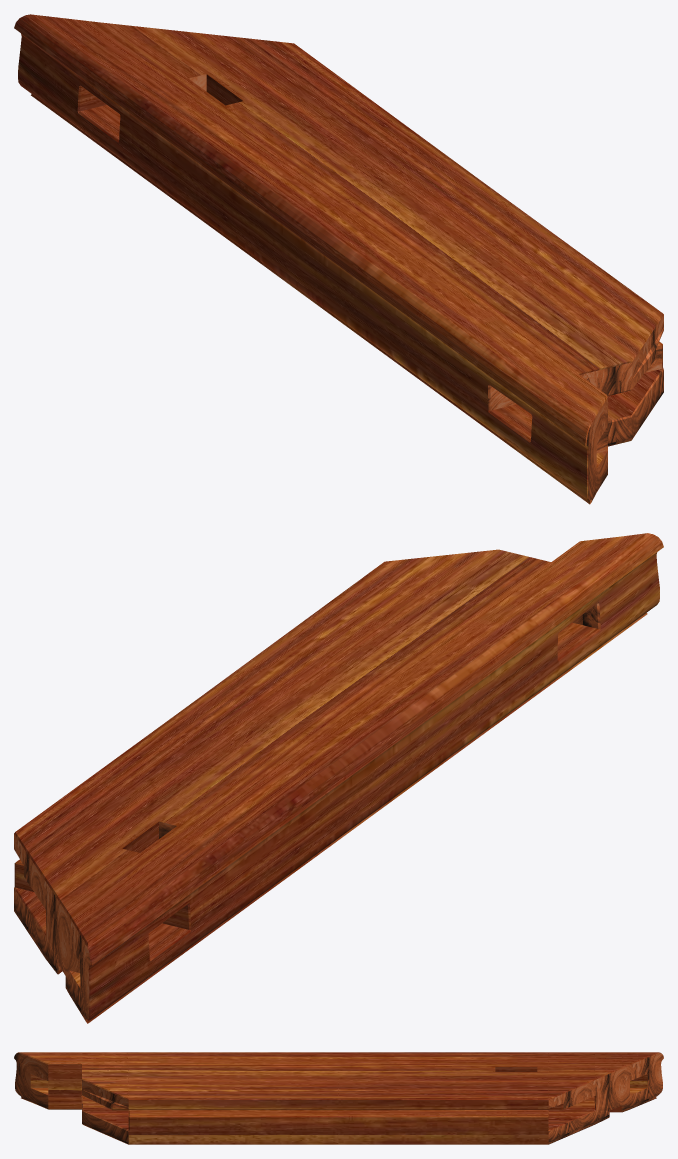
The model's file is GMY_J_motou_02.FBX.
3 views of the same model, one above another, from view 1: azimuth 30°, elevation 25°; view 2: azimuth 150°, elevation 25°; view 3: azimuth 270°, elevation 25° (orthographic). The views are drawn at different scales.
Parts seen in each view (by area): view 1: GMY_J_motou_02; view 2: GMY_J_motou_02; view 3: GMY_J_motou_02.
Boxes of the visible parts, <box> form: GMY_J_motou_02: <box>14,14,663,504</box>; GMY_J_motou_02: <box>14,533,663,1023</box>; GMY_J_motou_02: <box>14,1052,663,1144</box>.
Bounding box in the file's own units: 8.14 × 3.5 × 44.86.
